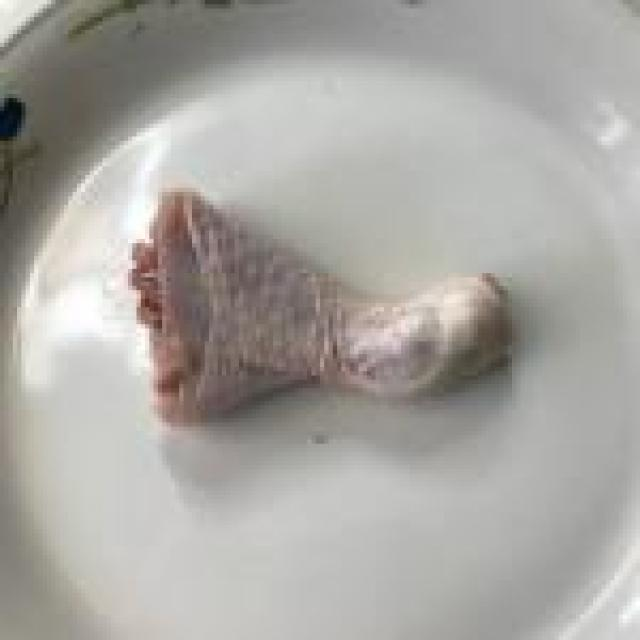leg: (120, 182, 512, 430)
